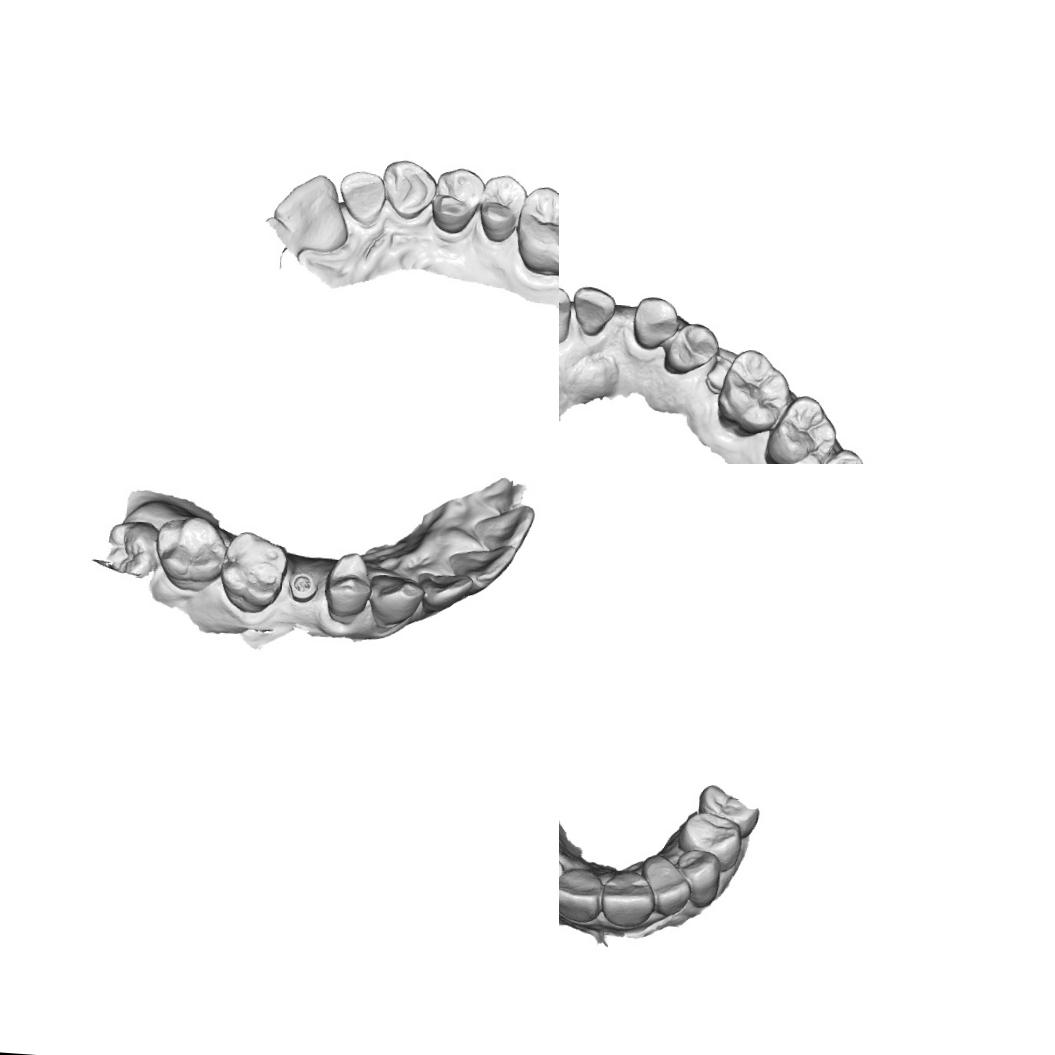canine: (378, 154, 436, 222), (365, 572, 426, 628), (630, 293, 681, 353), (673, 846, 722, 907)
implant: (286, 570, 319, 604)
incisor: (269, 170, 352, 256), (638, 853, 694, 918), (598, 868, 656, 928), (471, 500, 535, 552), (446, 540, 518, 586), (335, 167, 389, 228), (559, 863, 603, 925), (416, 570, 474, 616), (569, 284, 618, 337), (559, 280, 573, 345)
molar: (713, 347, 792, 441), (216, 529, 290, 615), (152, 513, 230, 593), (763, 393, 839, 464), (513, 182, 559, 277), (102, 518, 161, 579), (801, 445, 870, 464)
premolar: (674, 809, 744, 873), (430, 164, 486, 236), (475, 172, 528, 246), (322, 549, 374, 619), (660, 319, 720, 378), (695, 782, 761, 830)
